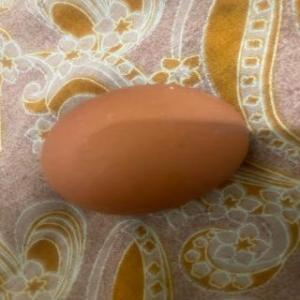egg: (39, 80, 254, 218)
